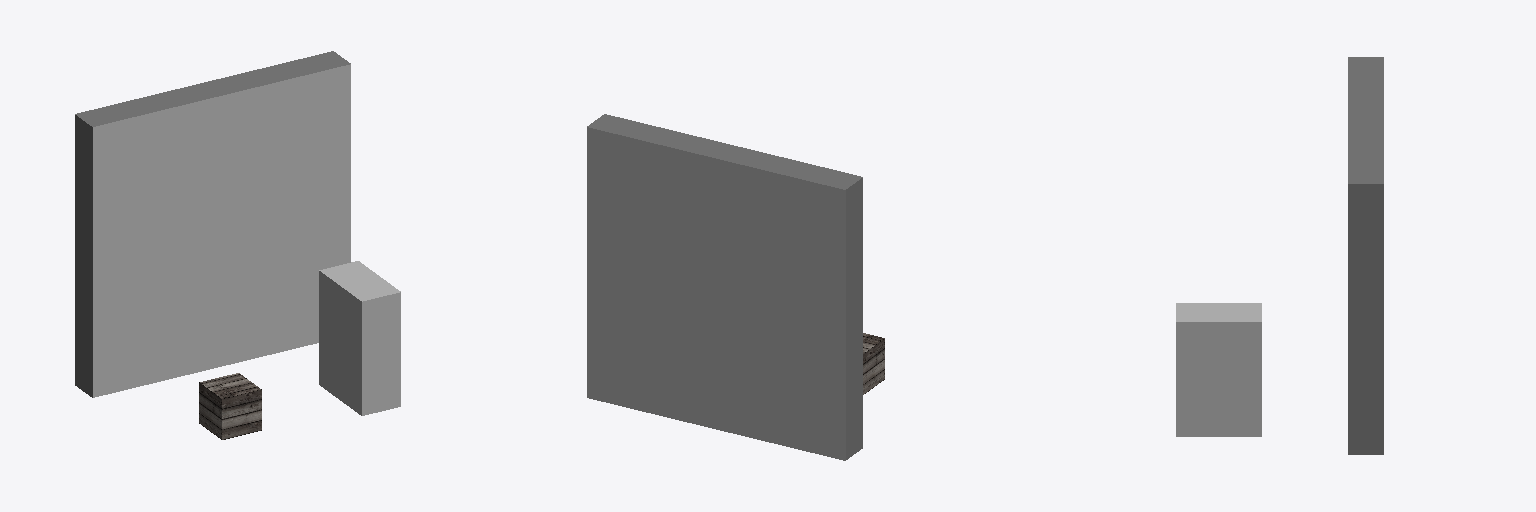
The picture shows the model from 3 angles: view 1: azimuth 30°, elevation 25°; view 2: azimuth 150°, elevation 25°; view 3: azimuth 270°, elevation 25°; orthographic projection.
Visible parts, largest first — view 1: UNITY_Beton, UNITY_Teak, Mur_par_défaut, UNITY_Plancher_Bois_Gris_90deg; view 2: UNITY_Brique, Mur_par_défaut, UNITY_Plancher_Bois_Gris_90deg; view 3: Mur_par_défaut, UNITY_Teak.
Part boxes in pixels (left/top/right/bottom): UNITY_Beton: left=93, top=64, right=350, bottom=397; UNITY_Teak: left=319, top=261, right=400, bottom=415; Mur_par_défaut: left=75, top=51, right=350, bottom=397; UNITY_Plancher_Bois_Gris_90deg: left=199, top=373, right=261, bottom=439; UNITY_Brique: left=587, top=127, right=845, bottom=460; Mur_par_défaut: left=587, top=114, right=862, bottom=459; UNITY_Plancher_Bois_Gris_90deg: left=863, top=333, right=884, bottom=394; Mur_par_défaut: left=1348, top=57, right=1383, bottom=454; UNITY_Teak: left=1176, top=303, right=1261, bottom=436.
Size of the model in its own units: 6.56 by 6.56 by 4.56.
5 materials, 1 textured.